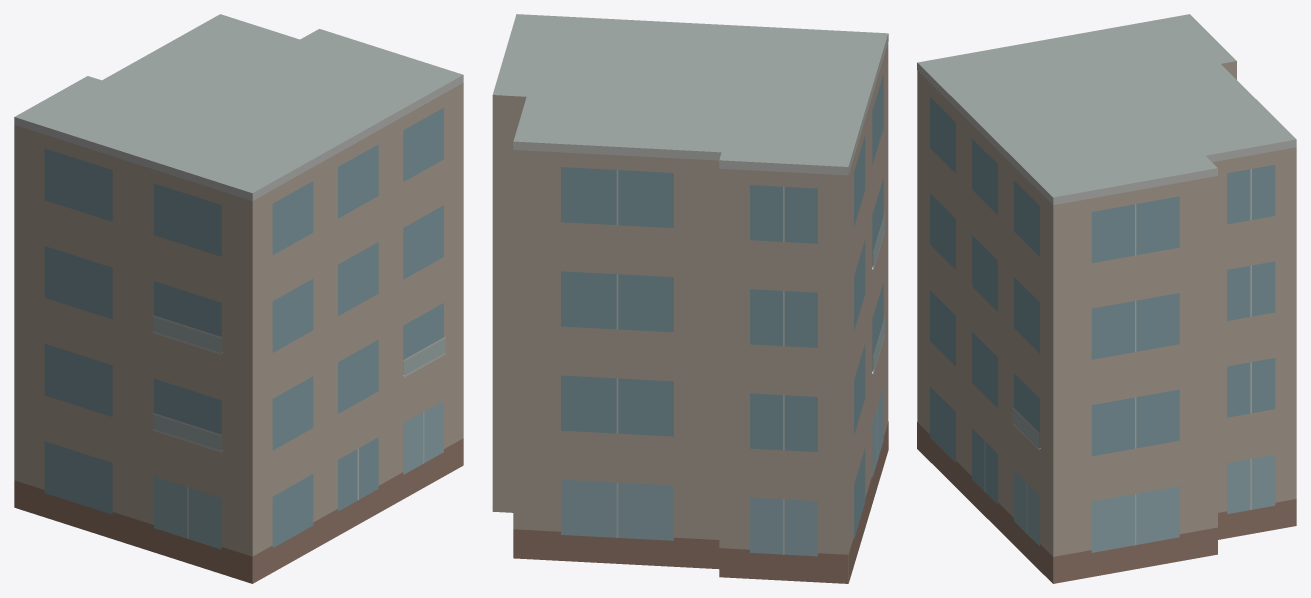
Rendered from survey-upis-32939286.glb.
3 views of the same model, side by side, from view 1: azimuth 30°, elevation 25°; view 2: azimuth 150°, elevation 25°; view 3: azimuth 270°, elevation 25° (orthographic). The views are drawn at different scales.
Parts seen in each view (by area): view 1: survey-upis-32939286.tmp; view 2: survey-upis-32939286.tmp; view 3: survey-upis-32939286.tmp.
Boxes of the visible parts, x1,y1,x2,y2 form: survey-upis-32939286.tmp: (14,14,463,583); survey-upis-32939286.tmp: (492,14,888,583); survey-upis-32939286.tmp: (917,14,1296,583).
Bounding box in the file's own units: 12.44 × 12.2 × 10.87.
